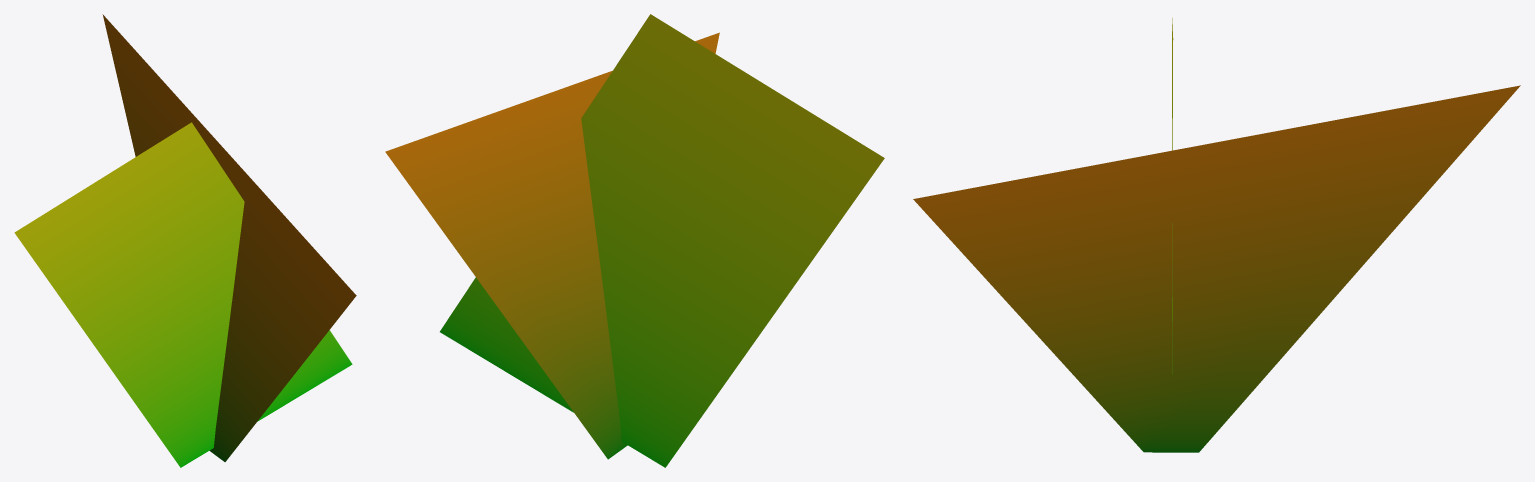
Rendered from Seaweed_LOD2_Var11_sdpjN.fbx.
3 renders of one model, left to right at view 1: azimuth 30°, elevation 25°; view 2: azimuth 150°, elevation 25°; view 3: azimuth 270°, elevation 25°, orthographic. The views are drawn at different scales.
Parts seen in each view (by area): view 1: _f2d1_Var11_LOD2; view 2: _f2d1_Var11_LOD2; view 3: _f2d1_Var11_LOD2.
Boxes of the visible parts, bbox=[...] form: _f2d1_Var11_LOD2: bbox=[14, 14, 356, 467]; _f2d1_Var11_LOD2: bbox=[385, 14, 884, 467]; _f2d1_Var11_LOD2: bbox=[913, 18, 1520, 452].
Bounding box in the file's own units: 16.04 × 15.52 × 20.87.
